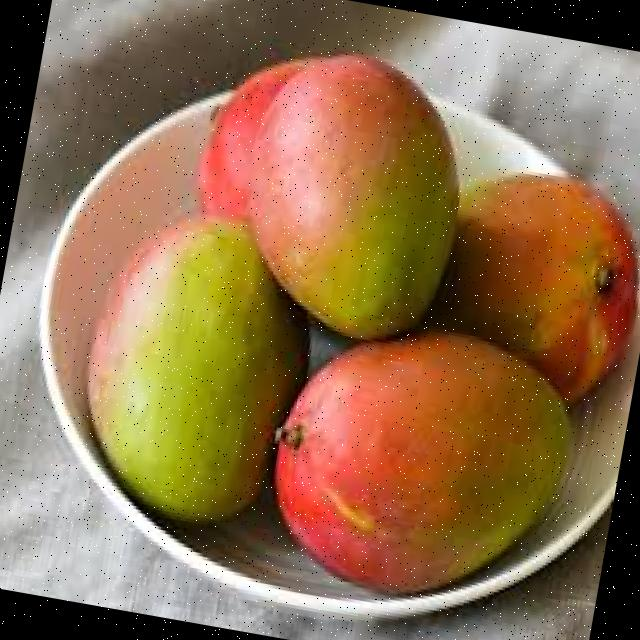mango: (247, 54, 460, 340)
